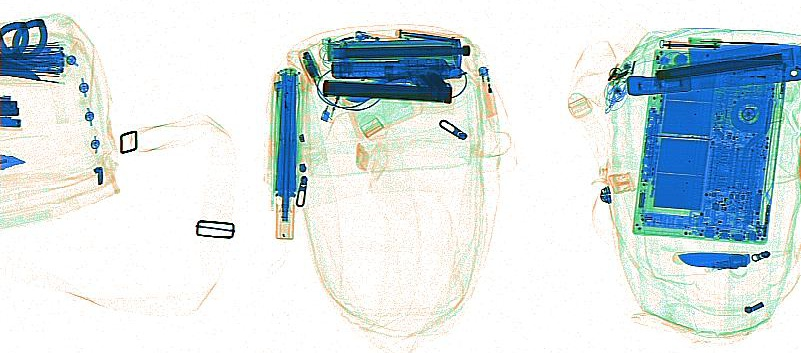handcuffs: (1, 17, 47, 61)
knife: (625, 43, 799, 95), (670, 250, 749, 268), (394, 27, 459, 45), (684, 35, 779, 45), (657, 38, 720, 51)
lighter: (476, 65, 497, 117), (319, 82, 340, 121), (352, 29, 396, 42)
